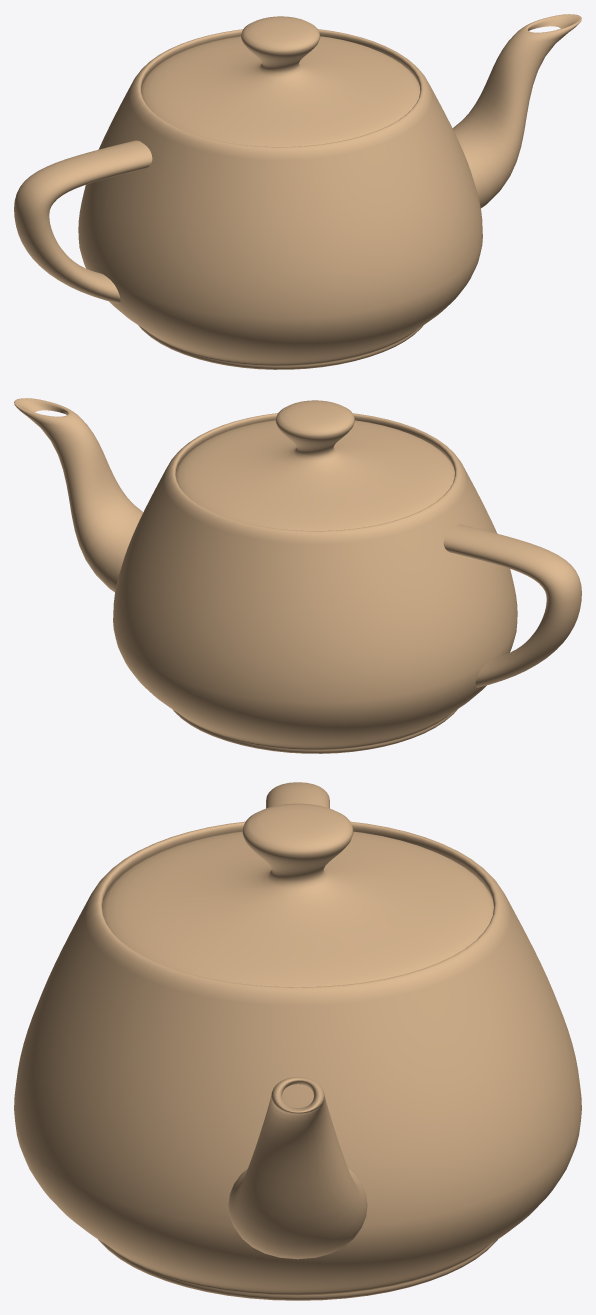
Rendered from tetera.glb.
3 views of the same model, one above another, from view 1: azimuth 30°, elevation 25°; view 2: azimuth 150°, elevation 25°; view 3: azimuth 270°, elevation 25° (orthographic). The views are drawn at different scales.
Parts seen in each view (by area): view 1: Teapot; view 2: Teapot; view 3: Teapot.
Part boxes in pixels (<box>): Teapot: <box>14,14,581,369</box>; Teapot: <box>14,398,581,753</box>; Teapot: <box>14,782,581,1300</box>.
Bounding box in the file's own units: 4.08 × 2 × 2.54.
